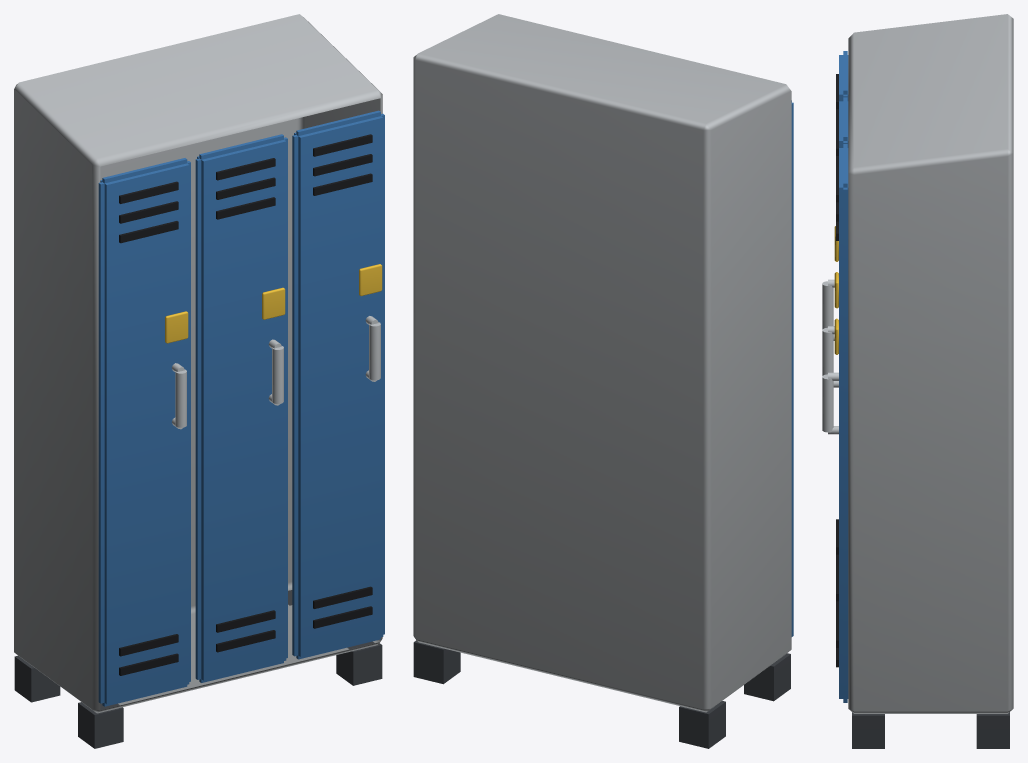
The model's file is EmployeeLockers_3_01.glb.
3 views of the same model, side by side, from view 1: azimuth 30°, elevation 25°; view 2: azimuth 150°, elevation 25°; view 3: azimuth 270°, elevation 25° (orthographic). The views are drawn at different scales.
Parts seen in each view (by area): view 1: SM_EmployeeLockers_3_01; view 2: SM_EmployeeLockers_3_01; view 3: SM_EmployeeLockers_3_01.
Boxes of the visible parts, x1,y1,x2,y2 form: SM_EmployeeLockers_3_01: (14,14,384,748); SM_EmployeeLockers_3_01: (413,14,793,748); SM_EmployeeLockers_3_01: (822,14,1013,748).
Size of the model in its own units: 0.9 by 1.8 by 0.5202.
Materials: 1 (1 with a texture image).
